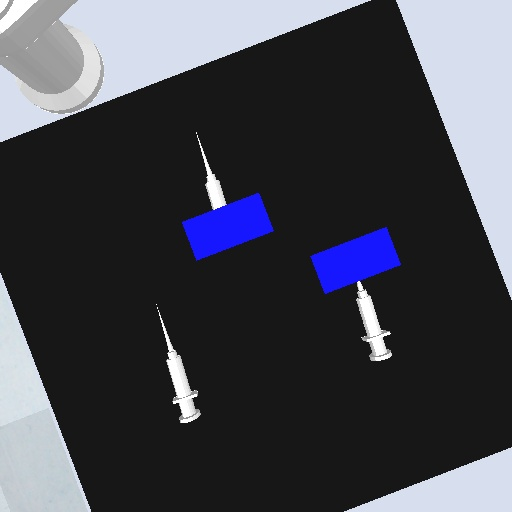jeringuilla: (151, 301, 204, 427), (353, 278, 395, 365), (192, 127, 230, 212)
